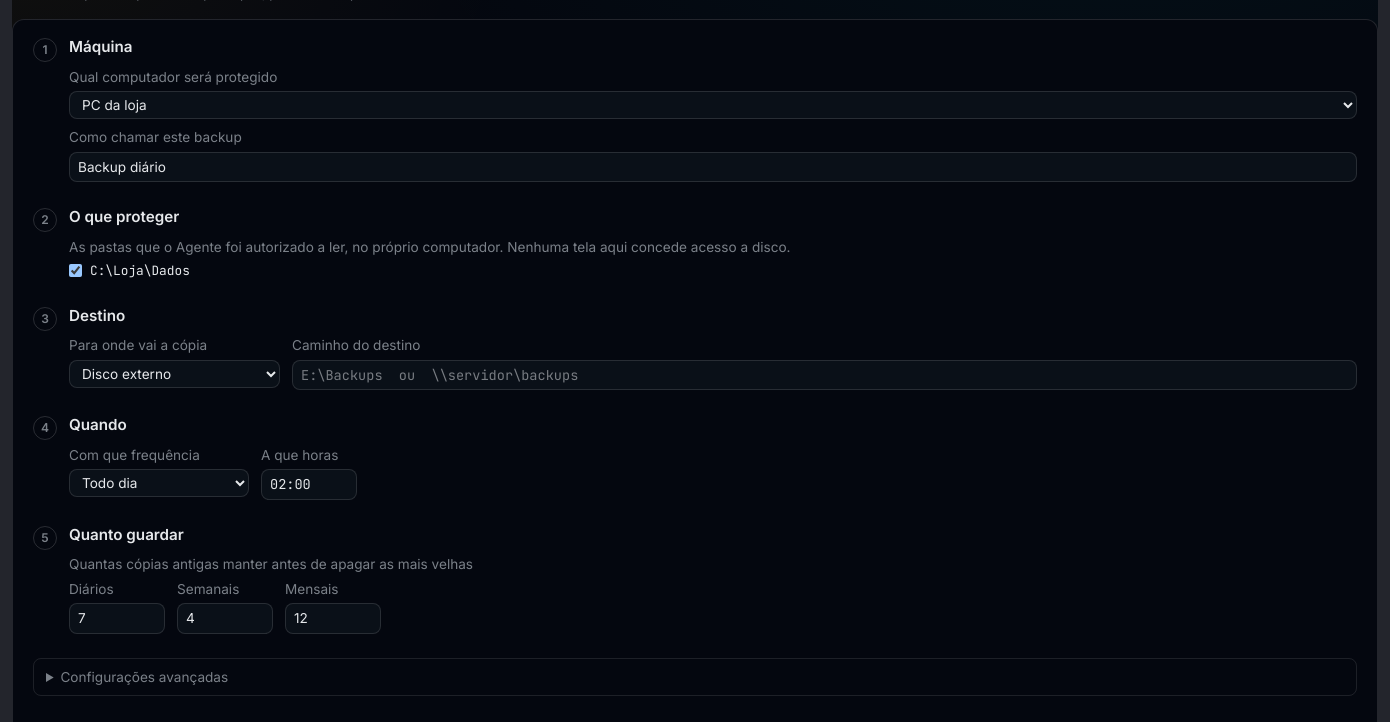
Test: assistente de configuração › sem pasta escolhida, ativar fica indisponível e a tela diz por quê
Click the checkbox labelled "C:\\Loja\\Dados" at {"x": 76, "y": 271}, box top-left (69, 264), bottom-right (82, 277)
(page scrolled)
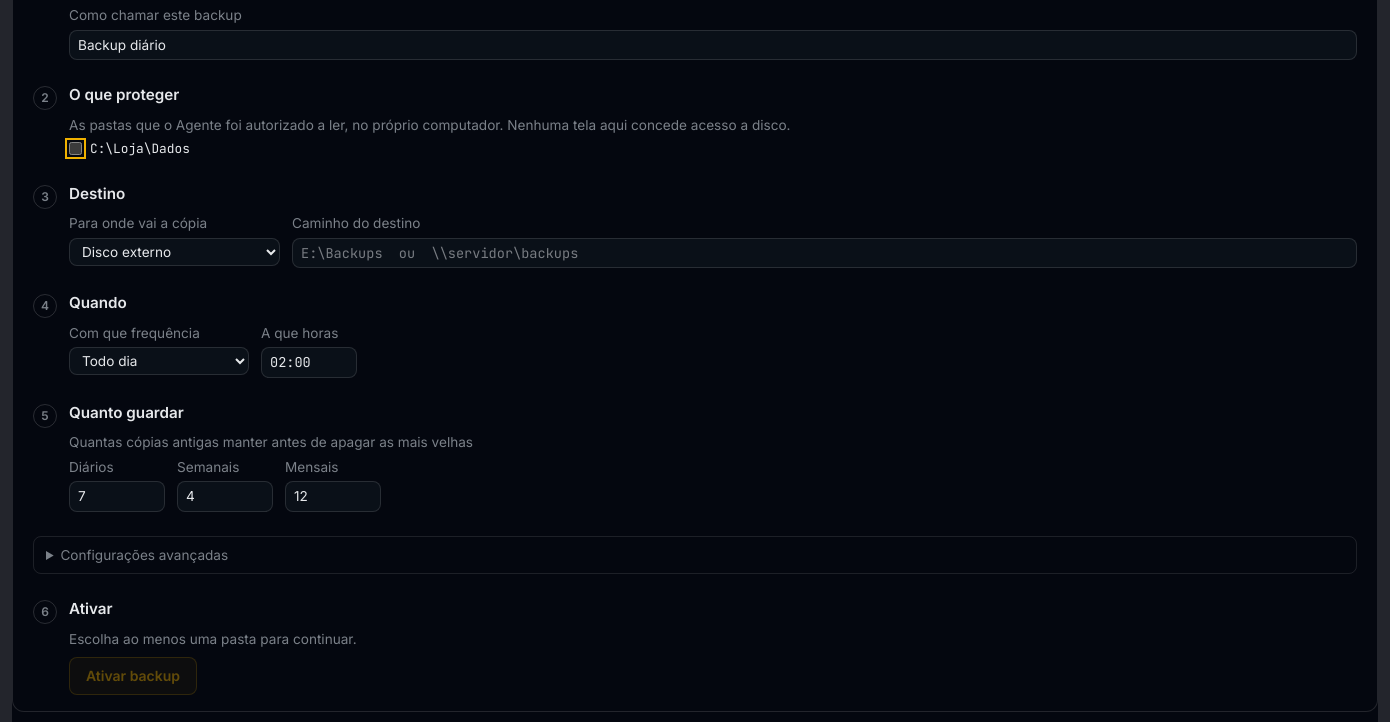
Now the text "Escolha ao menos uma pasta para continuar." is shown, box top-left (69, 631), bottom-right (356, 647)
Now the button "Ativar backup" is disabled, box top-left (69, 657), bottom-right (197, 695)
